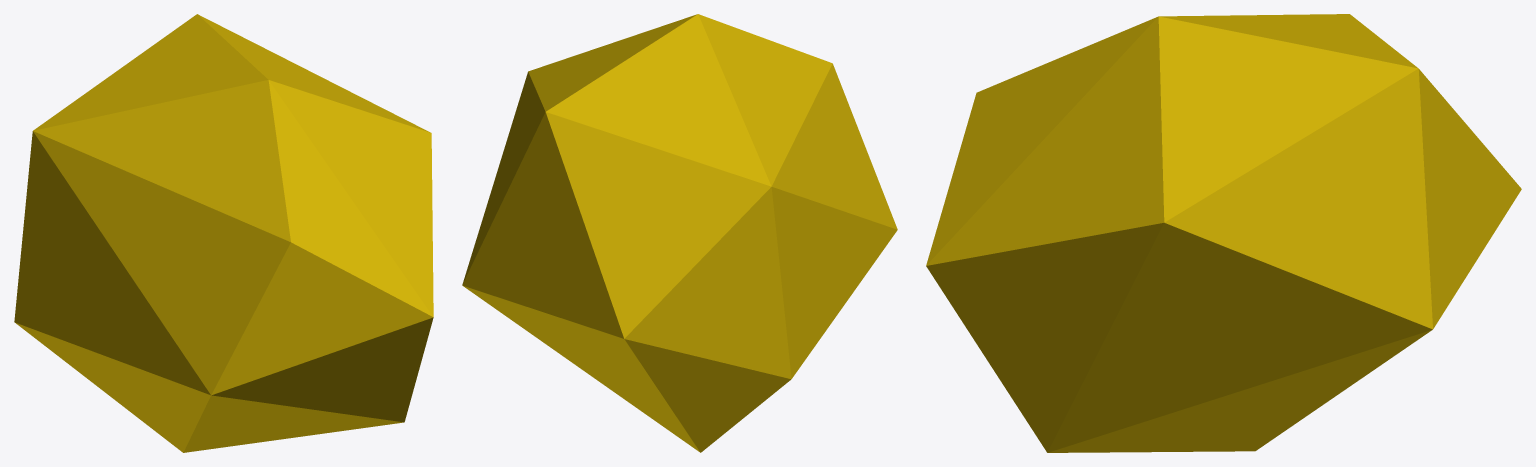
The model's file is GoldChunk.fbx.
3 views of the same model, side by side, from view 1: azimuth 30°, elevation 25°; view 2: azimuth 150°, elevation 25°; view 3: azimuth 270°, elevation 25° (orthographic). The views are drawn at different scales.
Parts seen in each view (by area): view 1: GoldChunk; view 2: GoldChunk; view 3: GoldChunk.
Boxes of the visible parts, x1,y1,x2,y2 form: GoldChunk: (14,14,433,452); GoldChunk: (462,14,897,452); GoldChunk: (926,14,1521,452).
Size of the model in its own units: 0.3693 by 0.4091 by 0.4802.
